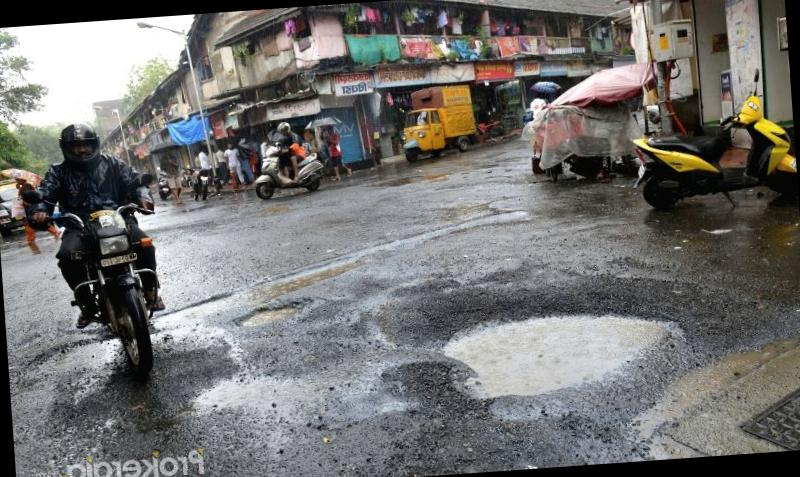pothole: (413, 288, 693, 426), (224, 290, 322, 342), (364, 164, 456, 192)
